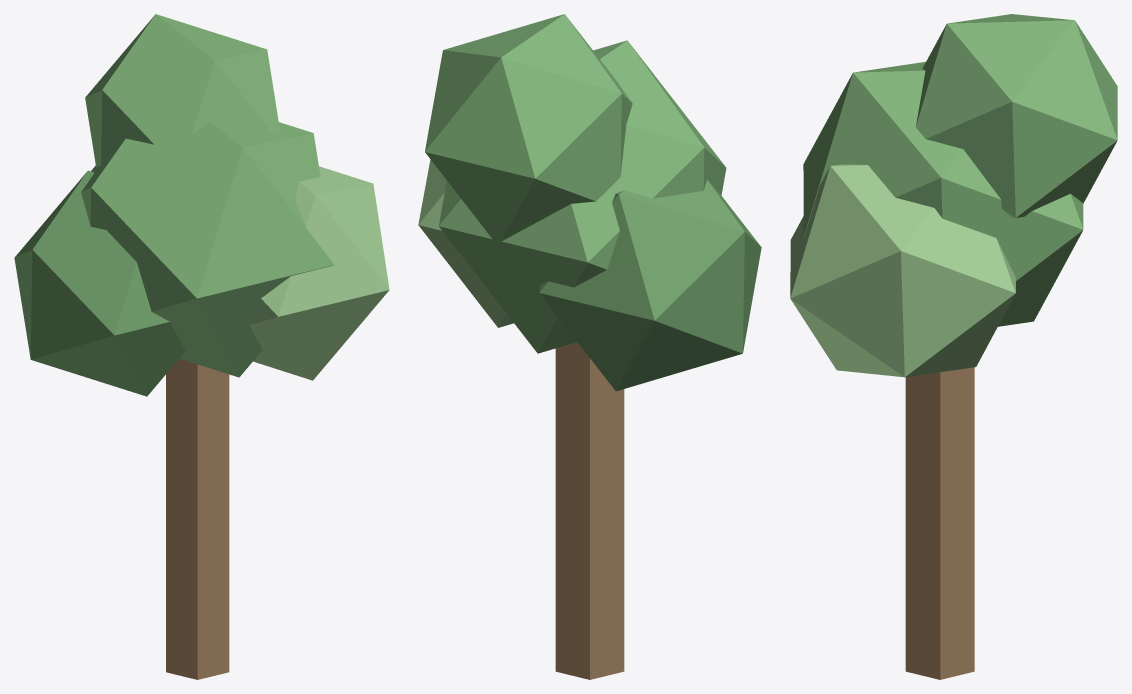
File: animprop_tree_01.glb
The picture shows the model from 3 angles, left to right: view 1: azimuth 30°, elevation 25°; view 2: azimuth 150°, elevation 25°; view 3: azimuth 270°, elevation 25°; orthographic projection. The views are drawn at different scales.
Parts seen in each view (by area): view 1: animprop; view 2: animprop; view 3: animprop.
Part boxes in pixels (x1=…): animprop: x1=14, y1=14, x2=389, y2=679; animprop: x1=418, y1=14, x2=761, y2=679; animprop: x1=790, y1=14, x2=1117, y2=679.
Bounding box in the file's own units: 1.48 × 2.72 × 1.23.
